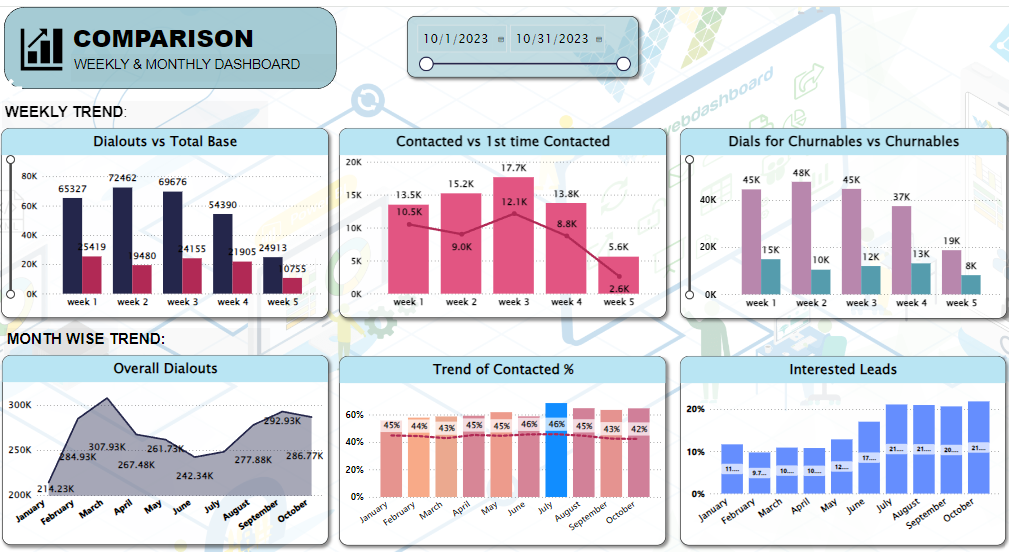

The page's visual inventory and layout, read from the dashboard file:
{"tool":"powerbi","page":{"name":"comparison_dashboard","canvas":[1800,970],"ordinal":2},"visuals":[{"type":"shape","box":[19.4,0,589.8,145.5],"z":0},{"type":"textbox","box":[135.8,19.4,541.3,69.8],"z":1000},{"type":"lineClusteredColumnComboChart","title":"Dialouts vs Total Base","fields":{"Category":["week_lookup.no of weeks","Date_lookup.Tele-calling.Variation.Date Hierarchy.Day"],"Y":["dump jan.OverallDials_dump_total","mis cons.count_mis"]},"box":[13.5,214.8,580.6,336.8],"z":2000},{"type":"lineStackedColumnComboChart","title":"Contacted vs 1st time Contacted","fields":{"Category":["week_lookup.no of weeks","Date_lookup_jan.Tele-calling.Variation.Date Hierarchy.Day"],"Y":["mis cons jan.count_mis for Contacted"],"Y2":["mis cons jan.1st_time_contacted_mis"]},"box":[613.5,214.8,580.6,336.8],"z":3000},{"type":"lineClusteredColumnComboChart","title":"Dials for Churnables vs Churnables ","fields":{"Category":["week_lookup.no of weeks","Date_lookup_jan.Tele-calling.Variation.Date Hierarchy.Day"],"Y":["dump jan.churnables_Dump","mis cons.Churnables_mis"]},"box":[1218,214,580,338],"z":4000},{"type":"actionButton","box":[13.6,124.2,54.3,42.7],"z":5000},{"type":"textbox","box":[137.7,83.4,471.4,48.5],"z":6000},{"type":"lineStackedColumnComboChart","title":"Interested Leads","fields":{"Category":["month_lookup.month_new1.Variation.Date Hierarchy.Month"],"Y":["mis_data_2023.%_Interested_mis_data"]},"box":[1218,618,578,336],"z":7000},{"type":"stackedAreaChart","title":"Overall Dialouts","fields":{"Category":["month_lookup.month_new1.Variation.Date Hierarchy.Month"],"Y":["CountNonNull(dump_data_2023.Overall Dials)"]},"box":[15.5,617.4,578.7,336.8],"z":8000},{"type":"lineClusteredColumnComboChart","title":"Trend of Contacted %","fields":{"Y2":["mis_data_2023.%_1st_time_contacted_mis_data"],"Y":["mis_data_2023.%_cont_mis_data"],"Category":["month_lookup.month_new1.Variation.Date Hierarchy.Month"]},"box":[614,618,580,336],"z":9000},{"type":"image","box":[0,19.4,170.3,112.2],"z":10000},{"type":"textbox","box":[19.4,569,472.2,48.4],"z":11000},{"type":"textbox","box":[15.5,166.4,472.2,48.4],"z":12000},{"type":"slicer","title":"Date","fields":{"Values":["Date_lookup.Tele-calling"]},"box":[733.3,15.5,411.3,108.6],"z":13000}]}

Visuals, with their boxes in screenshot pixels (x1, y1, x2, y2), scaled from the page's 1800x970 canvas onto the 1009x552 screenshot:
shape: {"left": 11, "top": 0, "right": 341, "bottom": 83}
textbox: {"left": 76, "top": 11, "right": 380, "bottom": 51}
"Dialouts vs Total Base" lineClusteredColumnComboChart: {"left": 8, "top": 122, "right": 333, "bottom": 314}
"Contacted vs 1st time Contacted" lineStackedColumnComboChart: {"left": 344, "top": 122, "right": 669, "bottom": 314}
"Dials for Churnables vs Churnables " lineClusteredColumnComboChart: {"left": 683, "top": 122, "right": 1008, "bottom": 314}
actionButton: {"left": 8, "top": 71, "right": 38, "bottom": 95}
textbox: {"left": 77, "top": 47, "right": 341, "bottom": 75}
"Interested Leads" lineStackedColumnComboChart: {"left": 683, "top": 352, "right": 1007, "bottom": 543}
"Overall Dialouts" stackedAreaChart: {"left": 9, "top": 351, "right": 333, "bottom": 543}
"Trend of Contacted %" lineClusteredColumnComboChart: {"left": 344, "top": 352, "right": 669, "bottom": 543}
image: {"left": 0, "top": 11, "right": 95, "bottom": 75}
textbox: {"left": 11, "top": 324, "right": 276, "bottom": 351}
textbox: {"left": 9, "top": 95, "right": 273, "bottom": 122}
"Date" slicer: {"left": 411, "top": 9, "right": 642, "bottom": 71}
